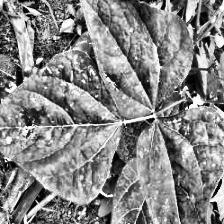Bean Rust: (0, 49, 119, 188), (70, 0, 193, 121), (140, 120, 207, 224)
